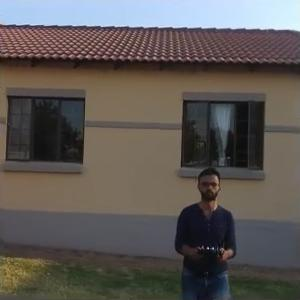follow: (171, 163, 240, 298)
